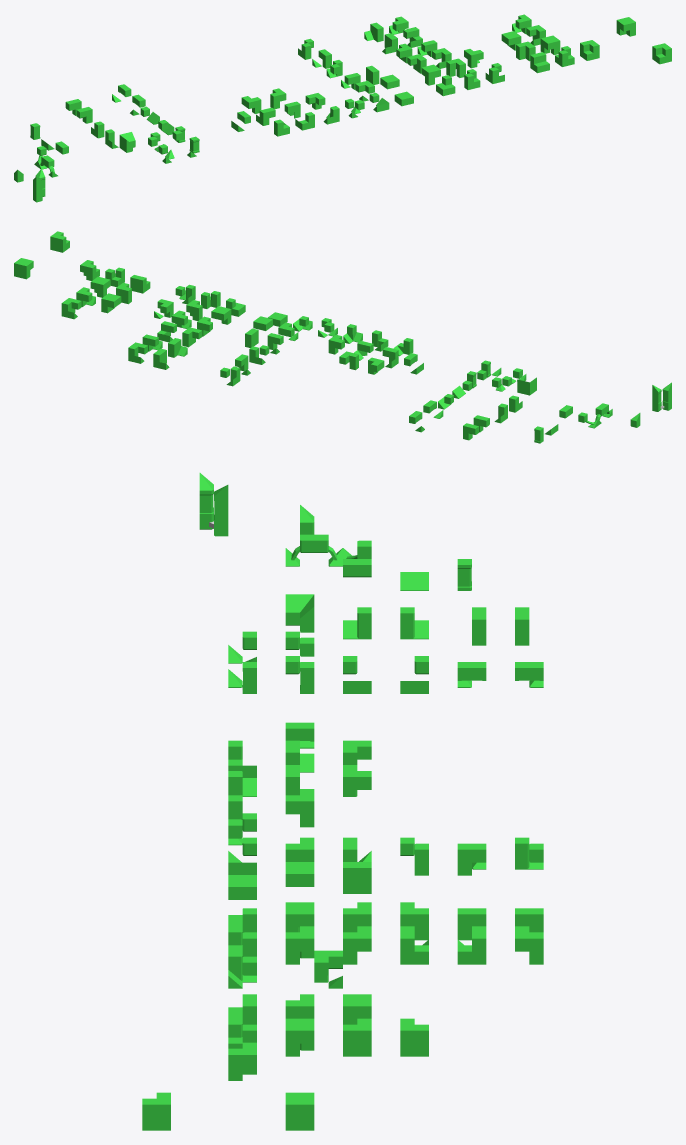
3 views of the same model, one above another, from view 1: azimuth 30°, elevation 25°; view 2: azimuth 150°, elevation 25°; view 3: azimuth 270°, elevation 25° (orthographic). The views are drawn at different scales.
Visible parts, largest first — view 1: 11101111_circle, 11101011_circle.002, 11111010_circle, 11001111_circle, 11111110_circle, 11101010_circle, 11101110_circle, 01011111_circle.002, 11000111_circle, 01101110_circle; view 2: 11111110_circle, 01111110_circle, 11101111_circle; view 3: 11111110_circle, 11111010_circle, 01111110_circle, 11100111_circle, 11101111_circle, 11101010_circle, 01011011_circle.002, 11101011_circle.002.
Boxes of the visible parts, x1,y1,x2,y2 form: 11101111_circle: (652, 43, 671, 64); 11101011_circle.002: (580, 40, 599, 60); 11111010_circle: (540, 35, 560, 54); 11001111_circle: (530, 52, 549, 73); 11111110_circle: (616, 17, 635, 36); 11101010_circle: (446, 58, 465, 77); 11101110_circle: (516, 41, 535, 61); 01011111_circle.002: (555, 46, 574, 66); 11000111_circle: (403, 27, 422, 47); 01101110_circle: (364, 22, 383, 42); 11111110_circle: (14, 258, 33, 279); 01111110_circle: (61, 298, 81, 319); 11101111_circle: (50, 231, 69, 252); 11111110_circle: (285, 1092, 314, 1130); 11111010_circle: (285, 1018, 314, 1056); 01111110_circle: (400, 1018, 428, 1056); 11100111_circle: (343, 1018, 371, 1056); 11101111_circle: (142, 1092, 170, 1130); 11101010_circle: (285, 926, 314, 964); 01011011_circle.002: (228, 950, 256, 988); 11101011_circle.002: (228, 1042, 256, 1080).
Size of the model in its own units: 50.04 by 2 by 14.
